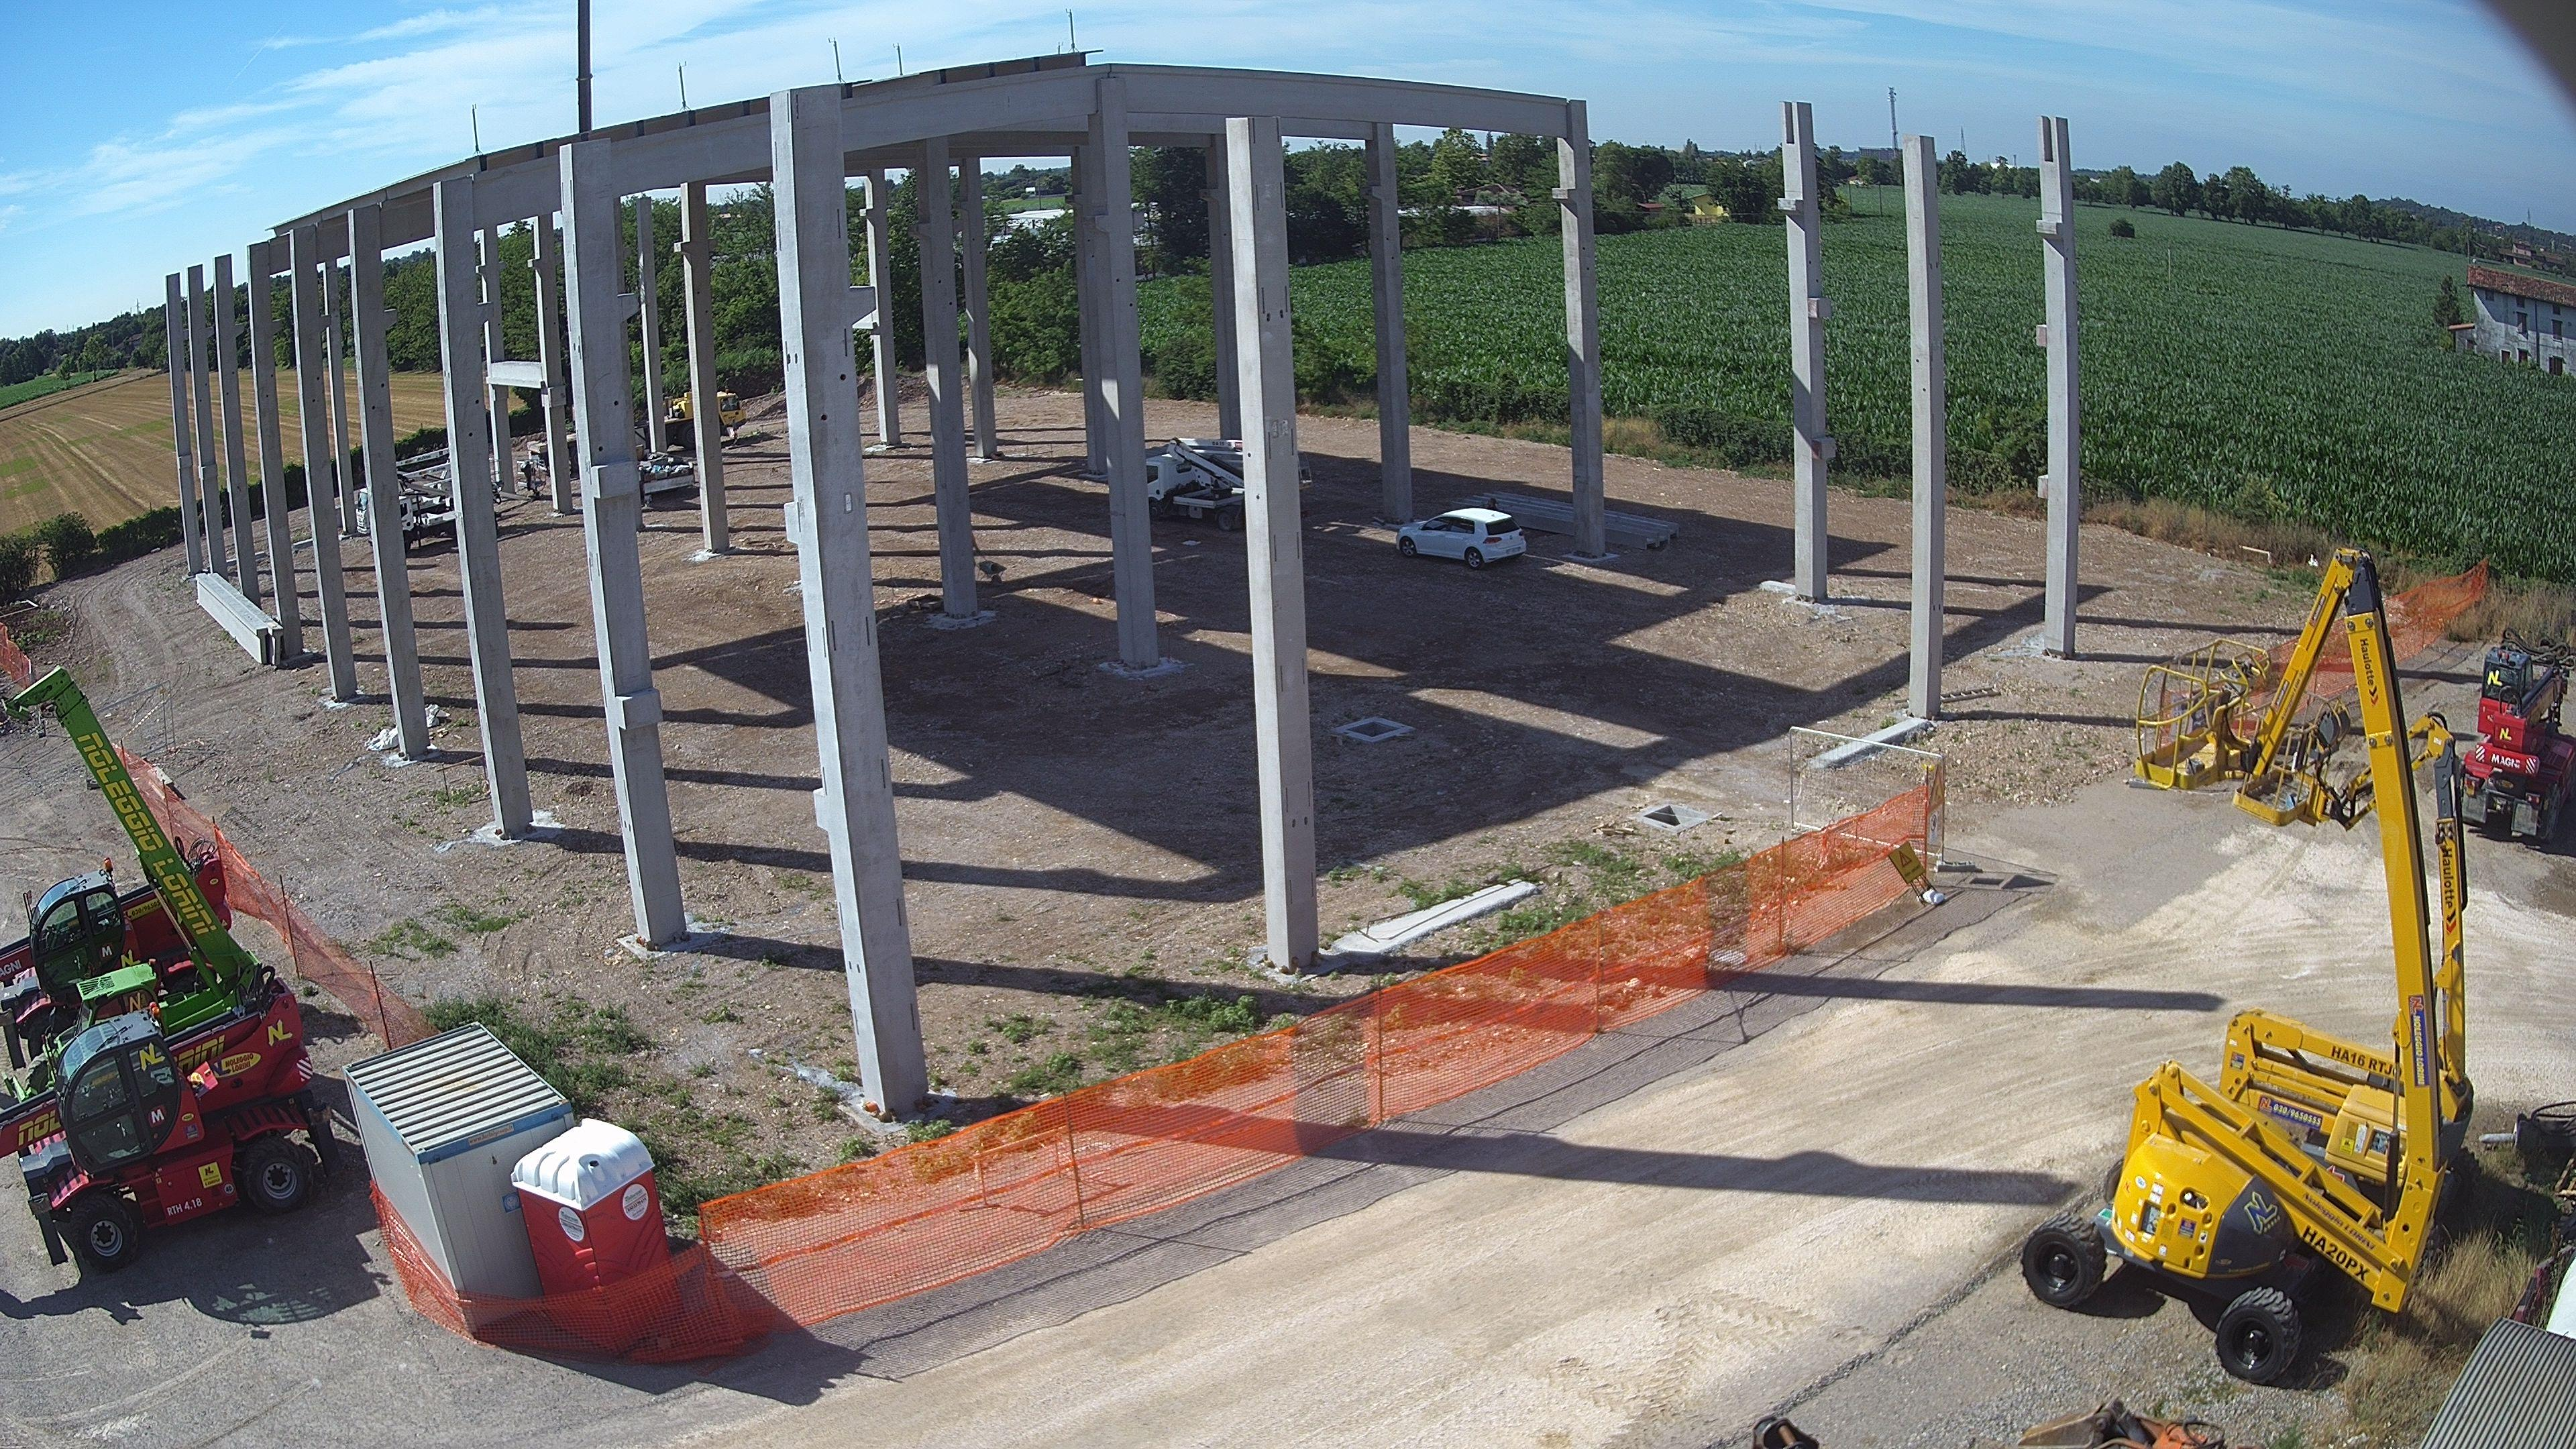Aerial platforms: (2019, 548, 2452, 1385), (0, 665, 264, 1104), (2217, 1007, 2408, 1221), (2410, 709, 2477, 1164), (2233, 685, 2374, 832), (1143, 435, 1246, 531), (398, 462, 458, 554), (488, 458, 545, 504), (396, 446, 449, 471), (1297, 451, 1313, 492)
Cars: (1396, 508, 1527, 568)
excavator: (0, 966, 345, 1274), (0, 856, 219, 1072), (2457, 644, 2576, 849), (172, 835, 232, 934), (577, 0, 594, 133), (662, 391, 695, 449), (717, 389, 748, 437), (527, 439, 550, 474), (564, 433, 582, 478), (633, 419, 653, 453)
